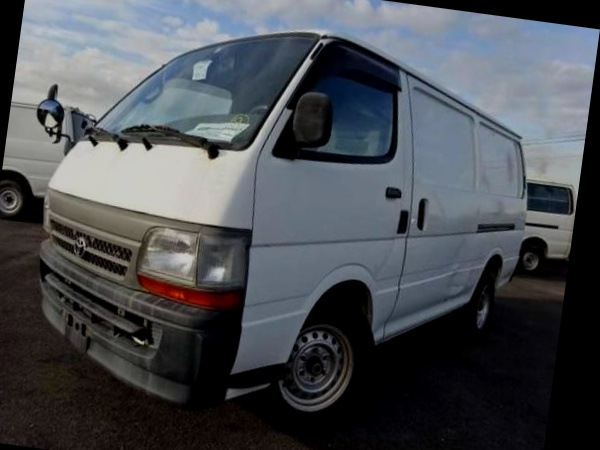van: (12, 0, 549, 450)
